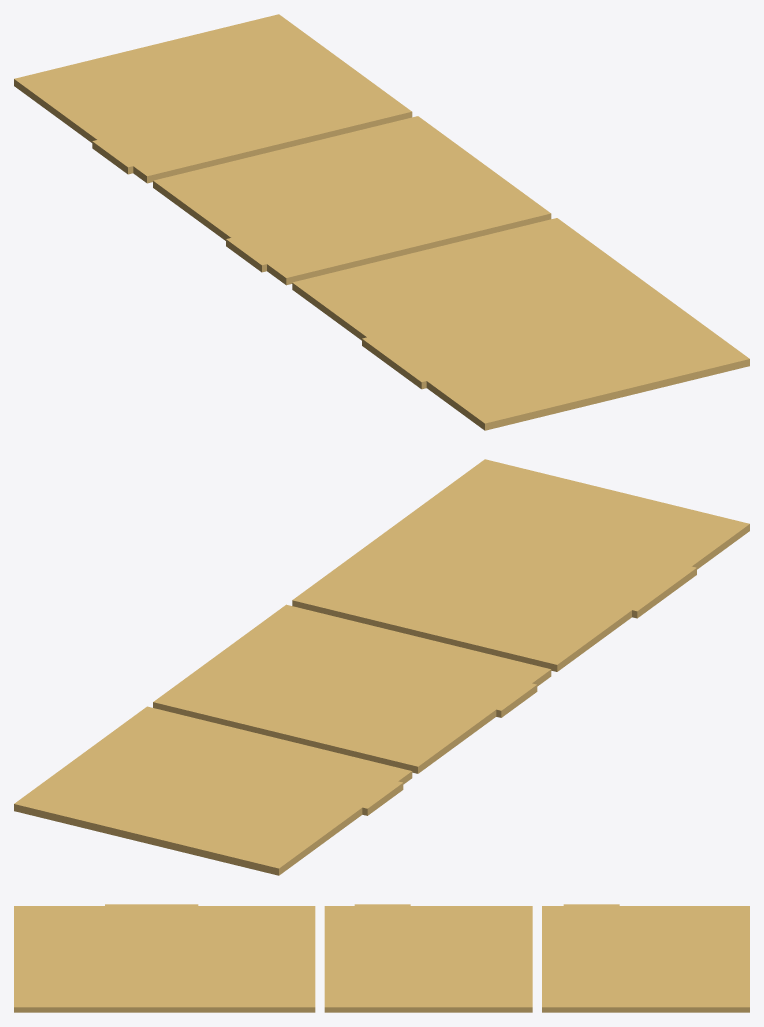
File: Joglo_part_11.fbx
3 views of the same model, one above another, from view 1: azimuth 30°, elevation 25°; view 2: azimuth 150°, elevation 25°; view 3: azimuth 270°, elevation 25° (orthographic). The views are drawn at different scales.
Visible parts, largest first — view 1: Mesh109_Paint___Golden_Ochre_0.001; view 2: Mesh109_Paint___Golden_Ochre_0.001; view 3: Mesh109_Paint___Golden_Ochre_0.001.
Boxes of the visible parts, x1,y1,x2,y2 form: Mesh109_Paint___Golden_Ochre_0.001: (14,14,749,430); Mesh109_Paint___Golden_Ochre_0.001: (14,459,749,875); Mesh109_Paint___Golden_Ochre_0.001: (14,904,749,1012).
Bounding box in the file's own units: 155 × 3.94 × 467.
